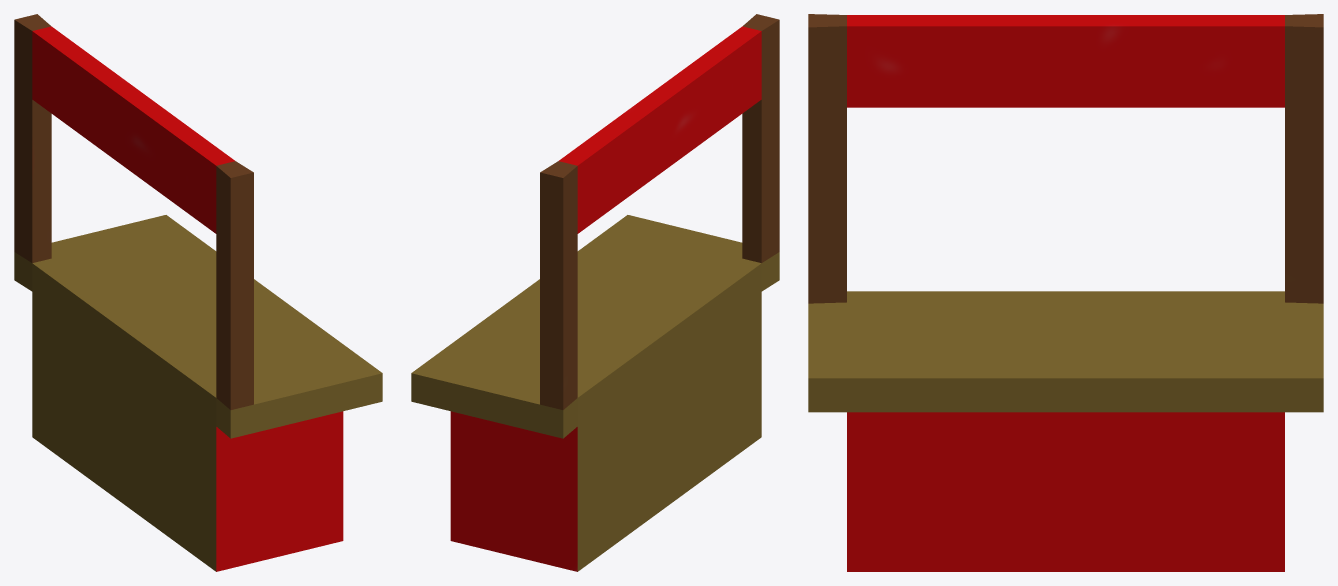
The model's file is FairStand.fbx.
The picture shows the model from 3 angles, left to right: view 1: azimuth 30°, elevation 25°; view 2: azimuth 150°, elevation 25°; view 3: azimuth 270°, elevation 25°; orthographic projection. The views are drawn at different scales.
Parts seen in each view (by area): view 1: Stand; view 2: Stand; view 3: Stand.
Boxes of the visible parts, x1,y1,x2,y2 form: Stand: (14, 14, 382, 571); Stand: (411, 14, 779, 571); Stand: (808, 14, 1323, 571).
Bounding box in the file's own units: 95.36 × 244 × 235.
Materials: 1 (1 with a texture image).
